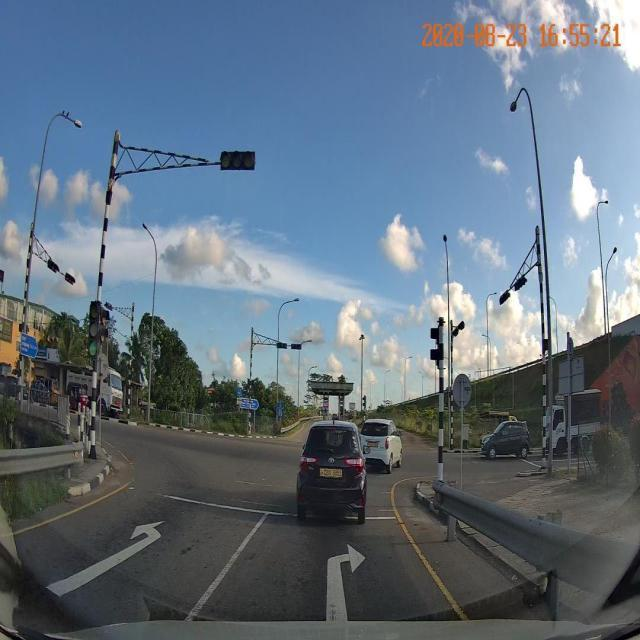Liniya 1: (389, 480, 468, 622), (184, 513, 269, 623), (12, 480, 133, 537)
Liniya 2: (159, 491, 396, 521)
Strelka vlevo: (41, 520, 169, 600)
Strelka vpravo: (324, 540, 368, 623)
